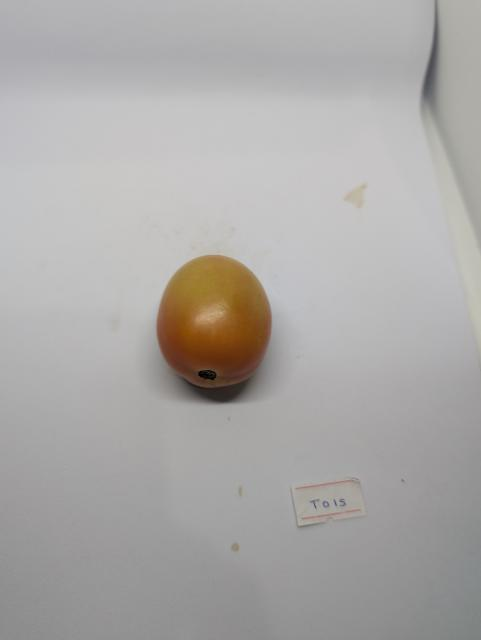turning: (147, 246, 294, 407)
